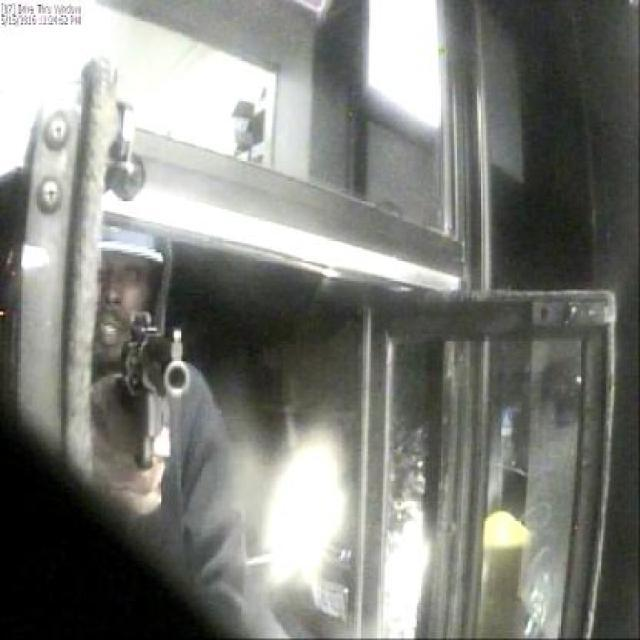gun: (123, 308, 188, 474)
